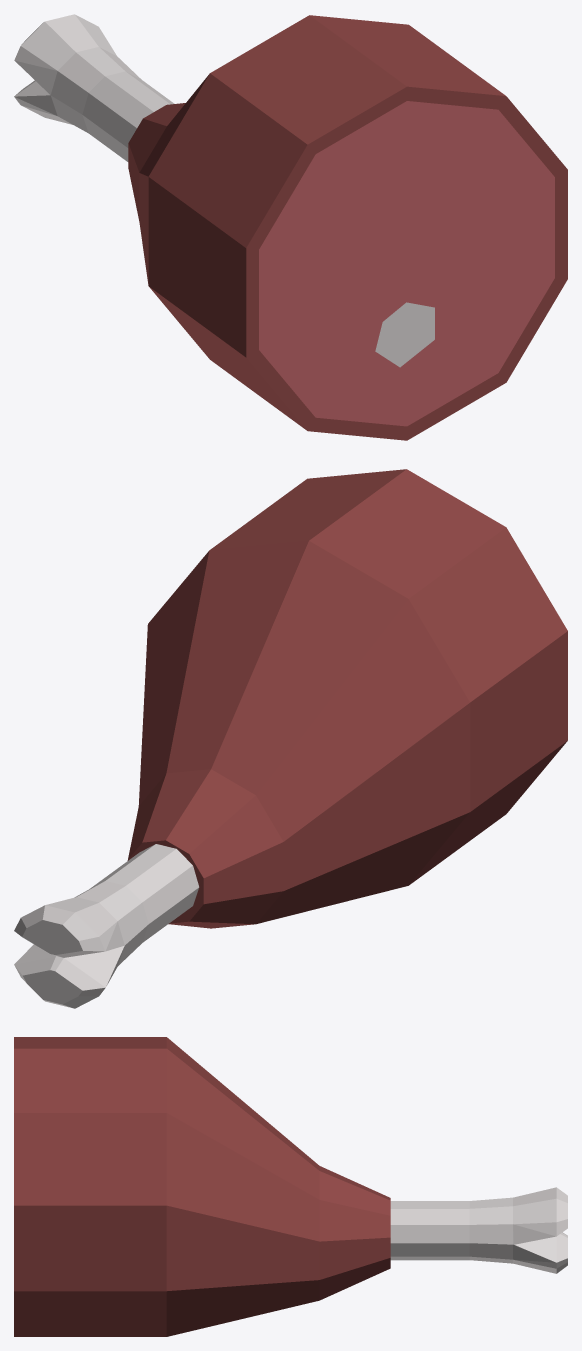
The model's file is Ham.fbx.
3 views of the same model, one above another, from view 1: azimuth 30°, elevation 25°; view 2: azimuth 150°, elevation 25°; view 3: azimuth 270°, elevation 25° (orthographic). The views are drawn at different scales.
Parts seen in each view (by area): view 1: Cylinder.003, Cylinder, Cylinder.002, Cylinder.001; view 2: Cylinder, Cylinder.002; view 3: Cylinder, Cylinder.002.
Part boxes in pixels (bbox=[...]): Cylinder.003: bbox=[259, 101, 554, 426]; Cylinder: bbox=[128, 15, 567, 440]; Cylinder.002: bbox=[14, 14, 174, 161]; Cylinder.001: bbox=[375, 302, 434, 367]; Cylinder: bbox=[127, 469, 567, 928]; Cylinder.002: bbox=[14, 844, 199, 1008]; Cylinder: bbox=[14, 1037, 390, 1336]; Cylinder.002: bbox=[390, 1187, 567, 1273].
Size of the model in its own units: 80.1 by 84.22 by 153.
